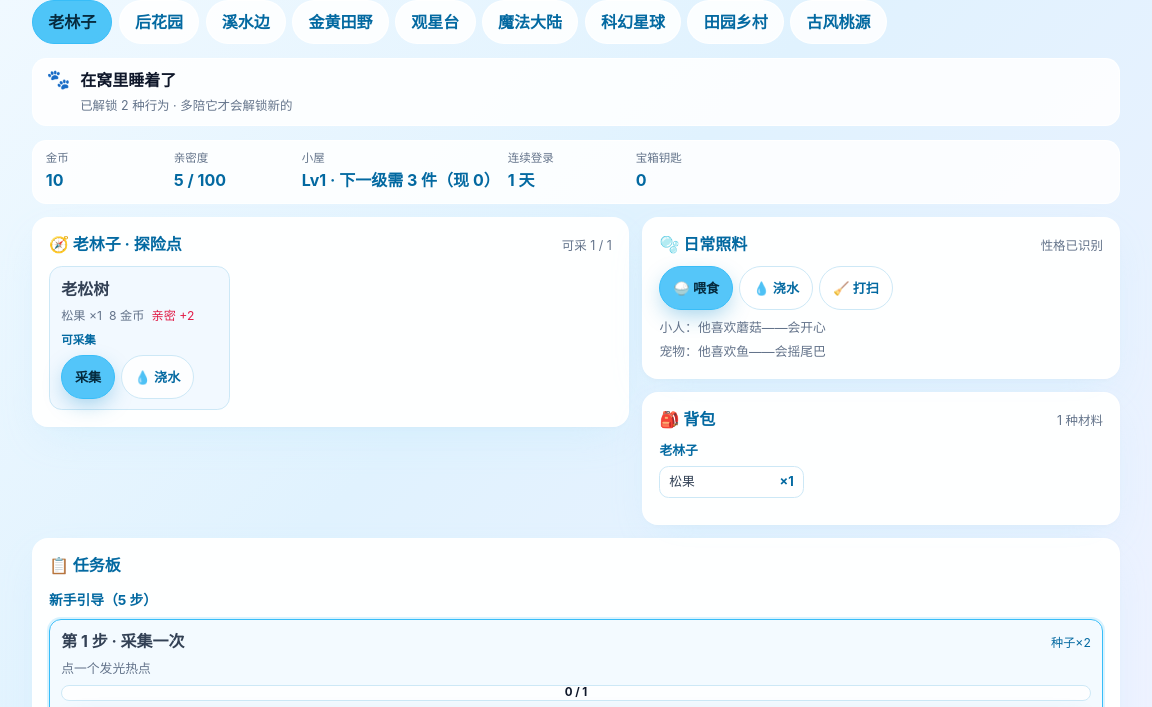
Test case: GameplayPanel · 服务端权威 › 成功动作后展示服务端事件卡与反馈
Step 1. Click the button with test id "w2-spot-forest_pine-explore" → (88, 377), box x1=61 y1=355 x2=115 y2=399
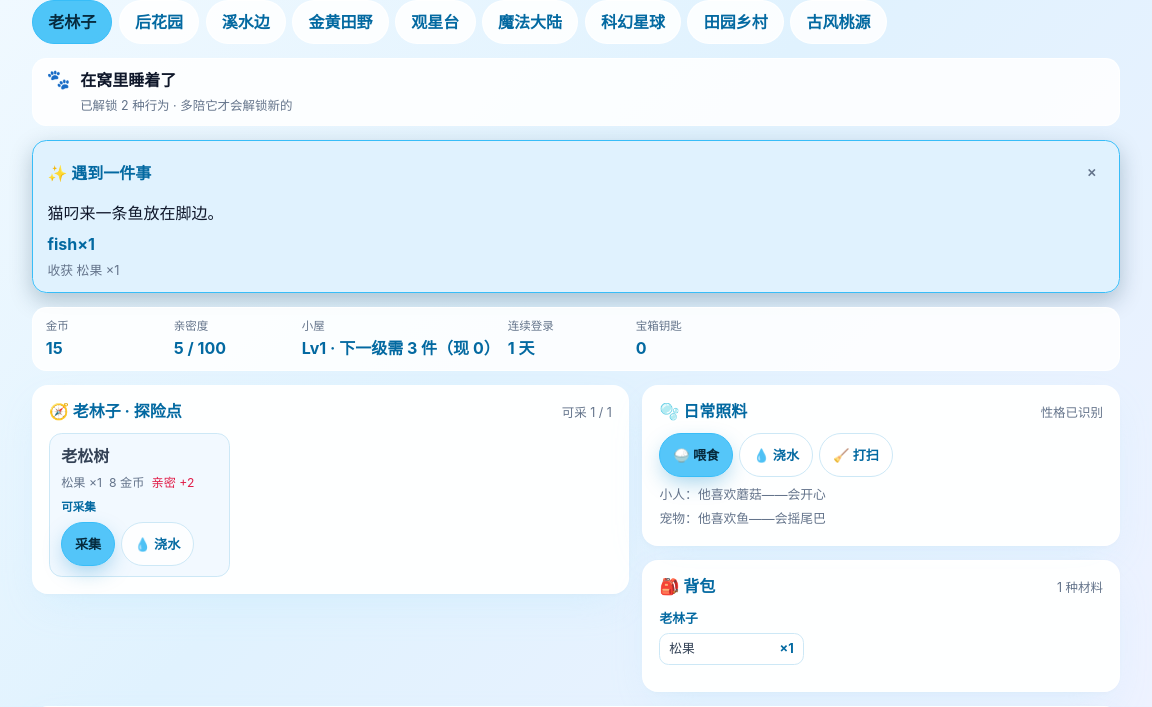
Expected: the message with test id "w2-event-card" shows "猫叼来一条鱼", x1=47 y1=204 x2=223 y2=224
Expected: the text with test id "w2-event-feedback" reads "收获 松果 ×1", x1=47 y1=264 x2=120 y2=278
